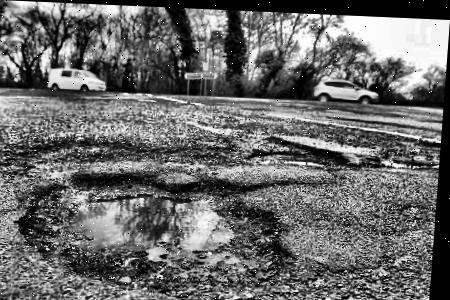pothole: (15, 164, 296, 293), (247, 131, 351, 169)
